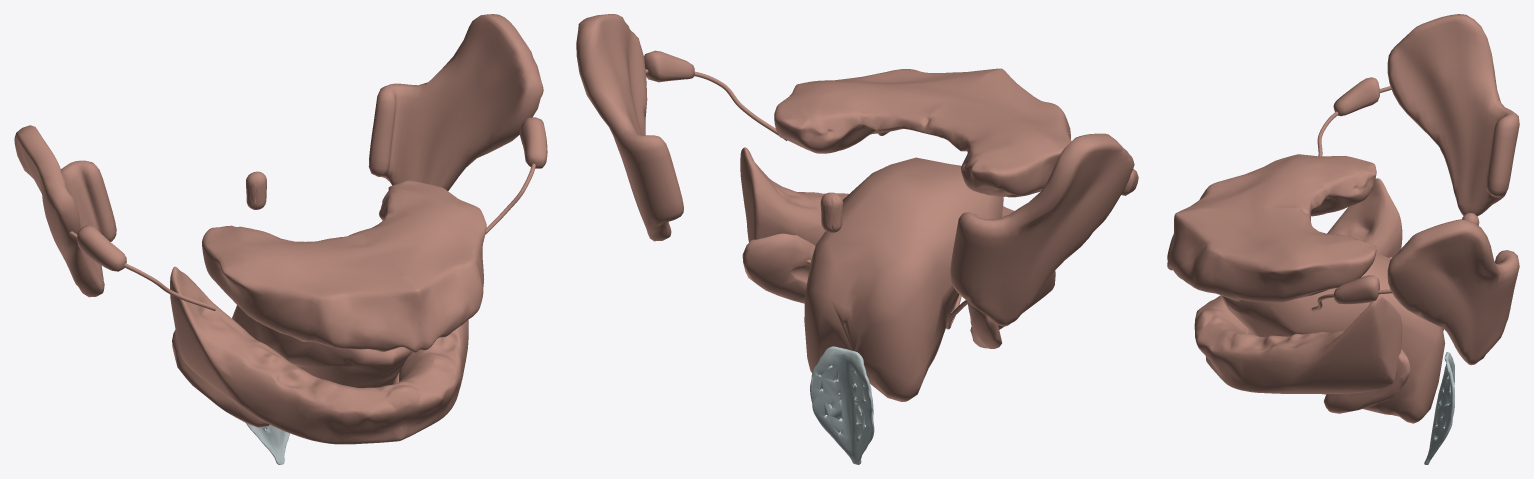
Rendered from detail-digestive-whole-body.glb.
The picture shows the model from 3 angles, left to right: view 1: azimuth 30°, elevation 25°; view 2: azimuth 150°, elevation 25°; view 3: azimuth 270°, elevation 25°; orthographic projection. The views are drawn at different scales.
Visible parts, largest first — view 1: za-905101329365f7dd, za-c8569a4be8296d88, za-fa061b55fa71f38c, za-583338262d372979, za-13783a9daa1dc385, za-841b4fced3cecb54, za-fefa76fc2e3ed4cc, za-583de2129cfb73ab, za-4b5c6f9187019cbf, za-46a9f19633fcf000; view 2: za-583338262d372979, za-905101329365f7dd, za-fa061b55fa71f38c, za-c8569a4be8296d88, za-583de2129cfb73ab, za-4b5ddee64191b3a2, za-fefa76fc2e3ed4cc, za-13783a9daa1dc385, za-4b5c6f9187019cbf; view 3: za-905101329365f7dd, za-fa061b55fa71f38c, za-c8569a4be8296d88, za-583338262d372979, za-4b5ddee64191b3a2, za-583de2129cfb73ab, za-841b4fced3cecb54, za-fefa76fc2e3ed4cc.
Part boxes in pixels (x1,y1,x2,y2): za-905101329365f7dd: (170,180,486,444); za-c8569a4be8296d88: (368,14,543,190); za-fa061b55fa71f38c: (14,125,116,297); za-583338262d372979: (232,305,412,387); za-13783a9daa1dc385: (172,329,269,427); za-841b4fced3cecb54: (77,225,126,271); za-fefa76fc2e3ed4cc: (519,117,547,168); za-583de2129cfb73ab: (246,423,289,464); za-4b5c6f9187019cbf: (246,171,266,209); za-46a9f19633fcf000: (69,231,216,310); za-583338262d372979: (804,157,1003,401); za-905101329365f7dd: (740,68,1071,329); za-fa061b55fa71f38c: (950,133,1134,326); za-c8569a4be8296d88: (576,14,683,241); za-583de2129cfb73ab: (810,346,874,464); za-4b5ddee64191b3a2: (742,233,815,303); za-fefa76fc2e3ed4cc: (644,50,694,82); za-13783a9daa1dc385: (967,301,1001,348); za-4b5c6f9187019cbf: (820,192,843,232); za-905101329365f7dd: (1167,154,1402,393); za-fa061b55fa71f38c: (1387,14,1519,216); za-c8569a4be8296d88: (1387,219,1519,365); za-583338262d372979: (1220,252,1445,423); za-4b5ddee64191b3a2: (1323,349,1410,413); za-583de2129cfb73ab: (1424,352,1454,464); za-841b4fced3cecb54: (1333,77,1379,116); za-fefa76fc2e3ed4cc: (1333,275,1379,304).
Size of the model in its own units: 0.13 by 0.0955 by 0.0882.
